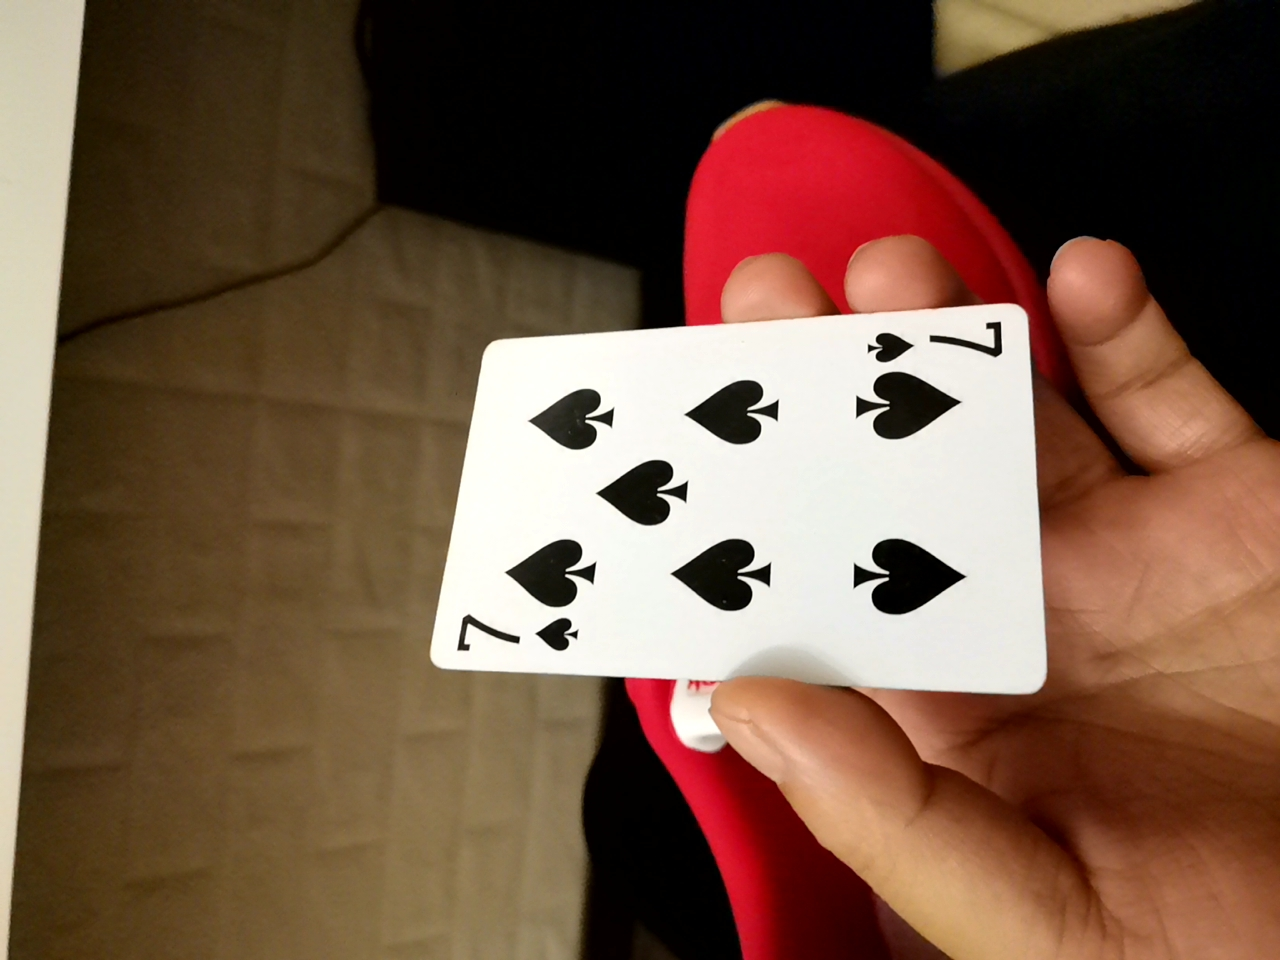ht 7: (435, 304, 1067, 716)
